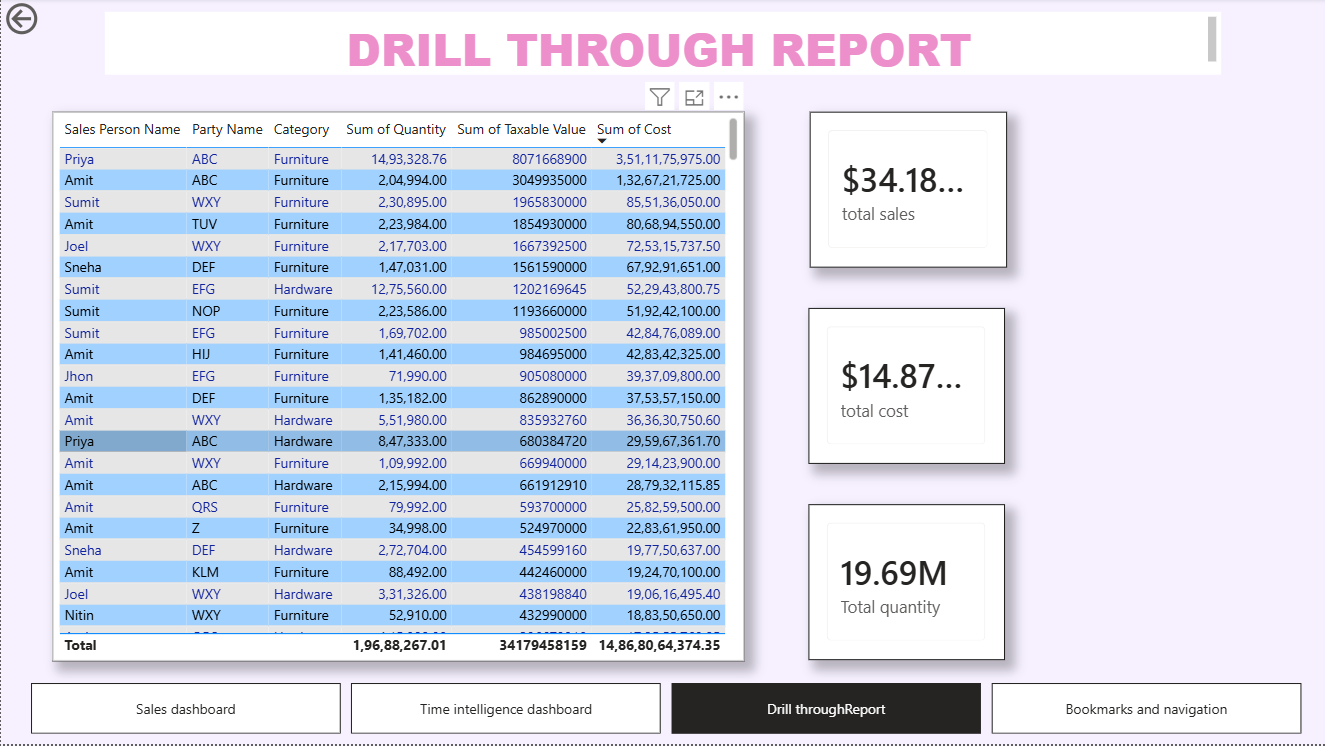

This screenshot's page, from the dashboard's own definition file:
{"tool":"powerbi","page":{"name":"Drill throughReport ","canvas":[1280,720],"ordinal":2},"visuals":[{"type":"tableEx","fields":{"Values":["FACT SALES.Sales Person Name","FACT SALES.Party Name","FACT SALES.Category","Sum(FACT SALES.Quantity)","Sum(FACT SALES.Taxable Value)","Sum(FACT SALES.Cost)"]},"box":[49.7,109.2,667.8,530],"z":0},{"type":"actionButton","box":[0,0,100,40],"z":1000},{"type":"textbox","box":[100.5,13.7,1077.4,60.8],"z":2000},{"type":"cardVisual","fields":{"Data":["CY.total sales"]},"box":[780,109.2,190,150],"z":3000},{"type":"cardVisual","fields":{"Data":["CY.total cost"]},"box":[779.5,299.2,189.9,150.2],"z":4000},{"type":"cardVisual","fields":{"Data":["CY.Total quantity"]},"box":[779.5,489.1,189.9,150.2],"z":5000},{"type":"pageNavigator","box":[28.5,661.6,1227.6,49.7],"z":6000}]}

Visuals, with their boxes on the page's 1280x720 design canvas (x1, y1, x2, y2). These are canvas units, not pixel positions in the 1325x746 screenshot, which may show the page scaled, cropped or inside an application window:
tableEx - FACT SALES.Sales Person Name x FACT SALES.Party Name: <region>50, 109, 718, 639</region>
actionButton: <region>0, 0, 100, 40</region>
textbox: <region>100, 14, 1178, 74</region>
cardVisual - CY.total sales: <region>780, 109, 970, 259</region>
cardVisual - CY.total cost: <region>780, 299, 969, 449</region>
cardVisual - CY.Total quantity: <region>780, 489, 969, 639</region>
pageNavigator: <region>28, 662, 1256, 711</region>
